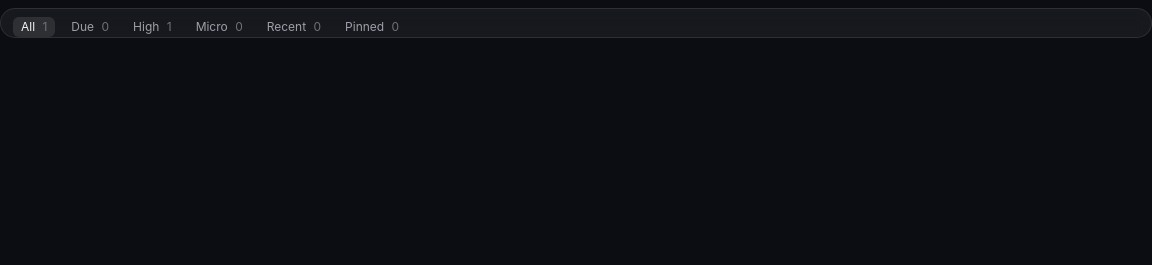
Test: BacklogBelt › filters out tasks that are part of "Today"
// The belt is collapsed by default, so we need to trigger the expanded view
Hover over the element named "Backlog belt" at point(576, 23), box top-left (0, 8), bottom-right (1151, 38)
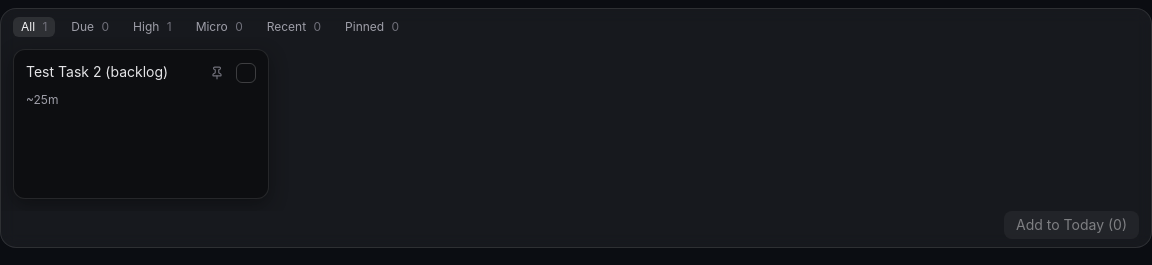
Now the text "Test Task 2 (backlog)" is shown, box top-left (26, 62), bottom-right (168, 82)
